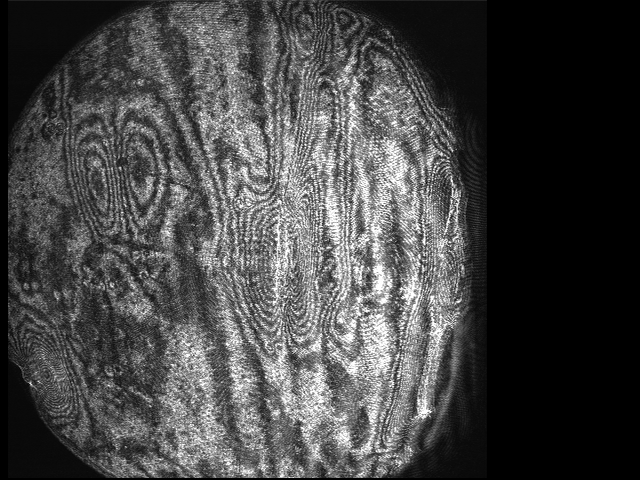plume: (70, 115, 169, 235)
